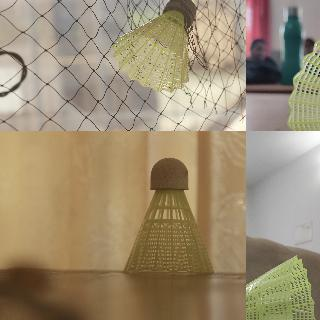shuttlecock: (124, 158, 212, 272), (112, 0, 196, 92), (246, 255, 316, 319), (288, 25, 319, 130)
